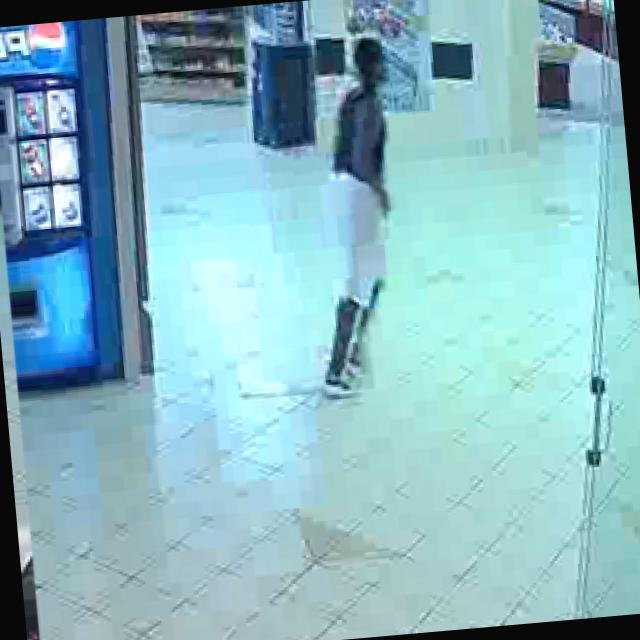person: (294, 38, 414, 395)
